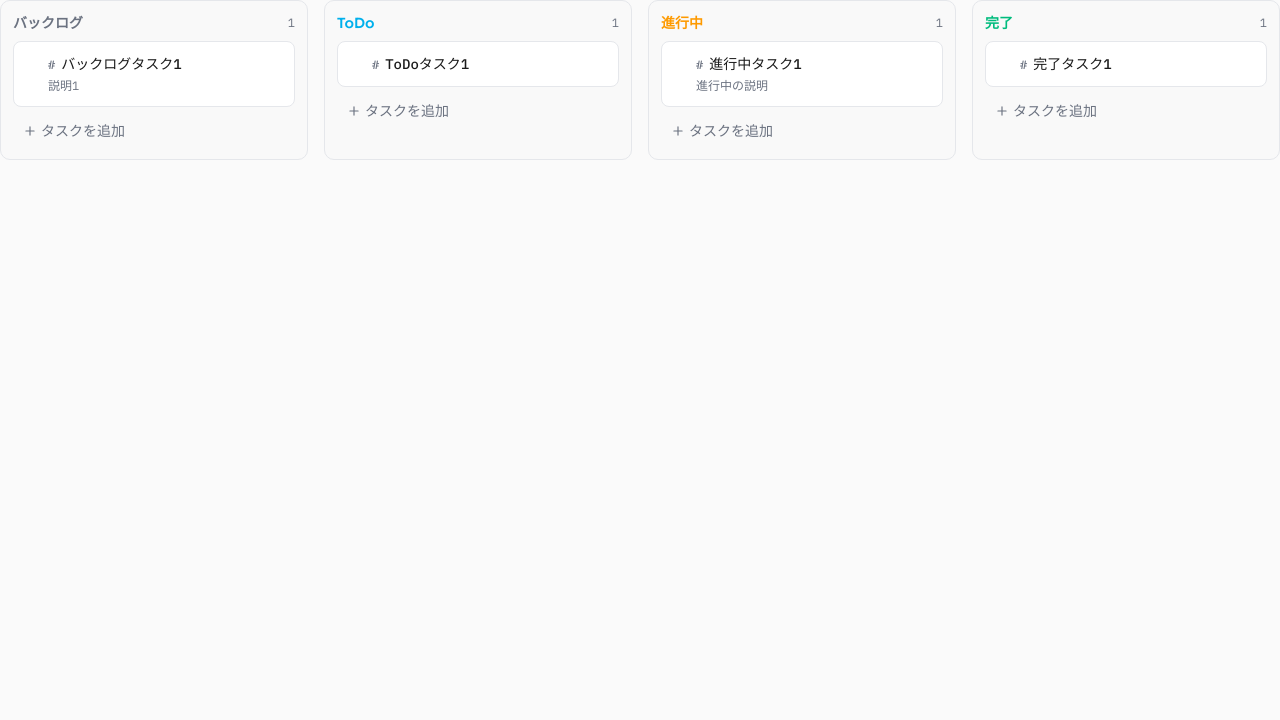
Test: KanbanBoard (Task 10.2, 10.3) › タスク作成 › タスク追加ボタンをクリックすると作成ダイアログを表示する
The width and height of the screenshot is (1280, 720).
Click the button "タスクを追加" below "説明1": (83, 131) [13, 115, 295, 147]
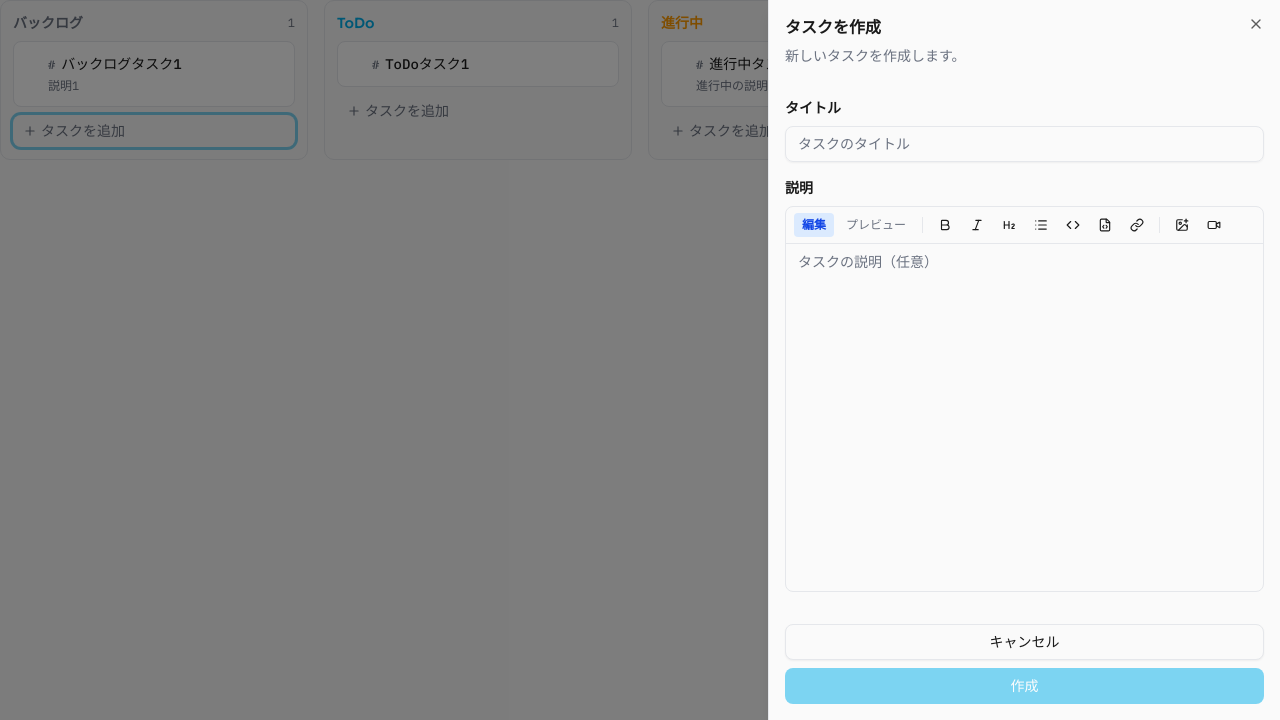
Check: the heading "タスクを作成" is shown, box [785, 17, 881, 38]
